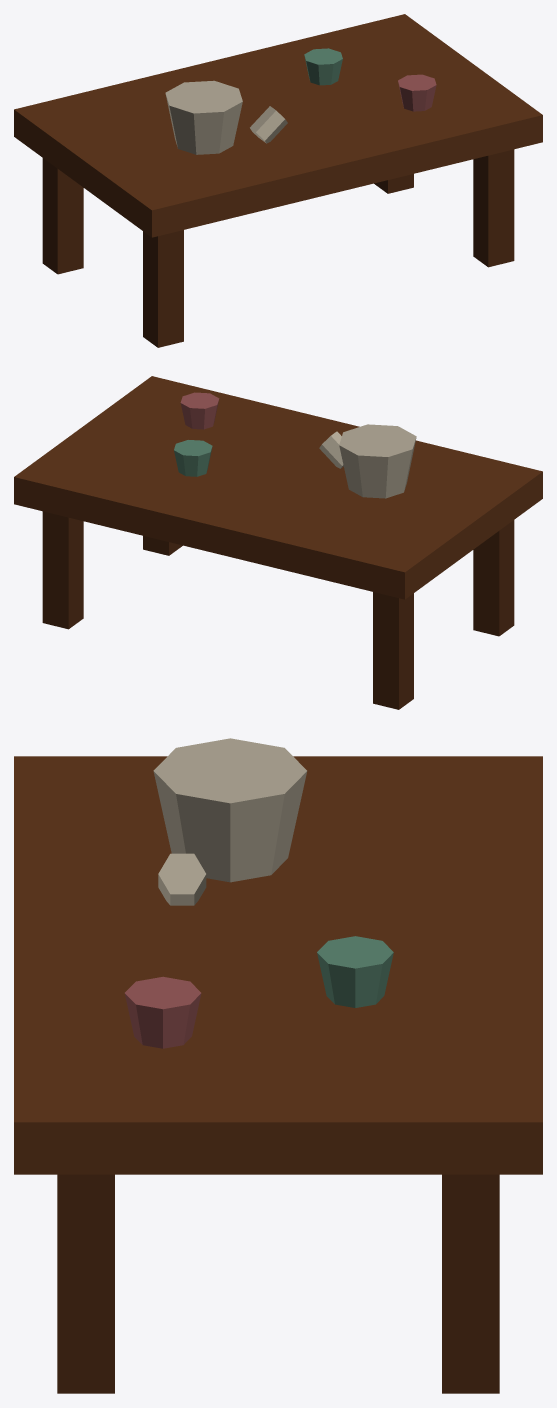
File: teatable.obj
3 renders of one model, top to bottom at view 1: azimuth 30°, elevation 25°; view 2: azimuth 150°, elevation 25°; view 3: azimuth 270°, elevation 25°, orthographic. The views are drawn at different scales.
Size of the model in its own units: 0.9 by 0.43 by 0.55.
